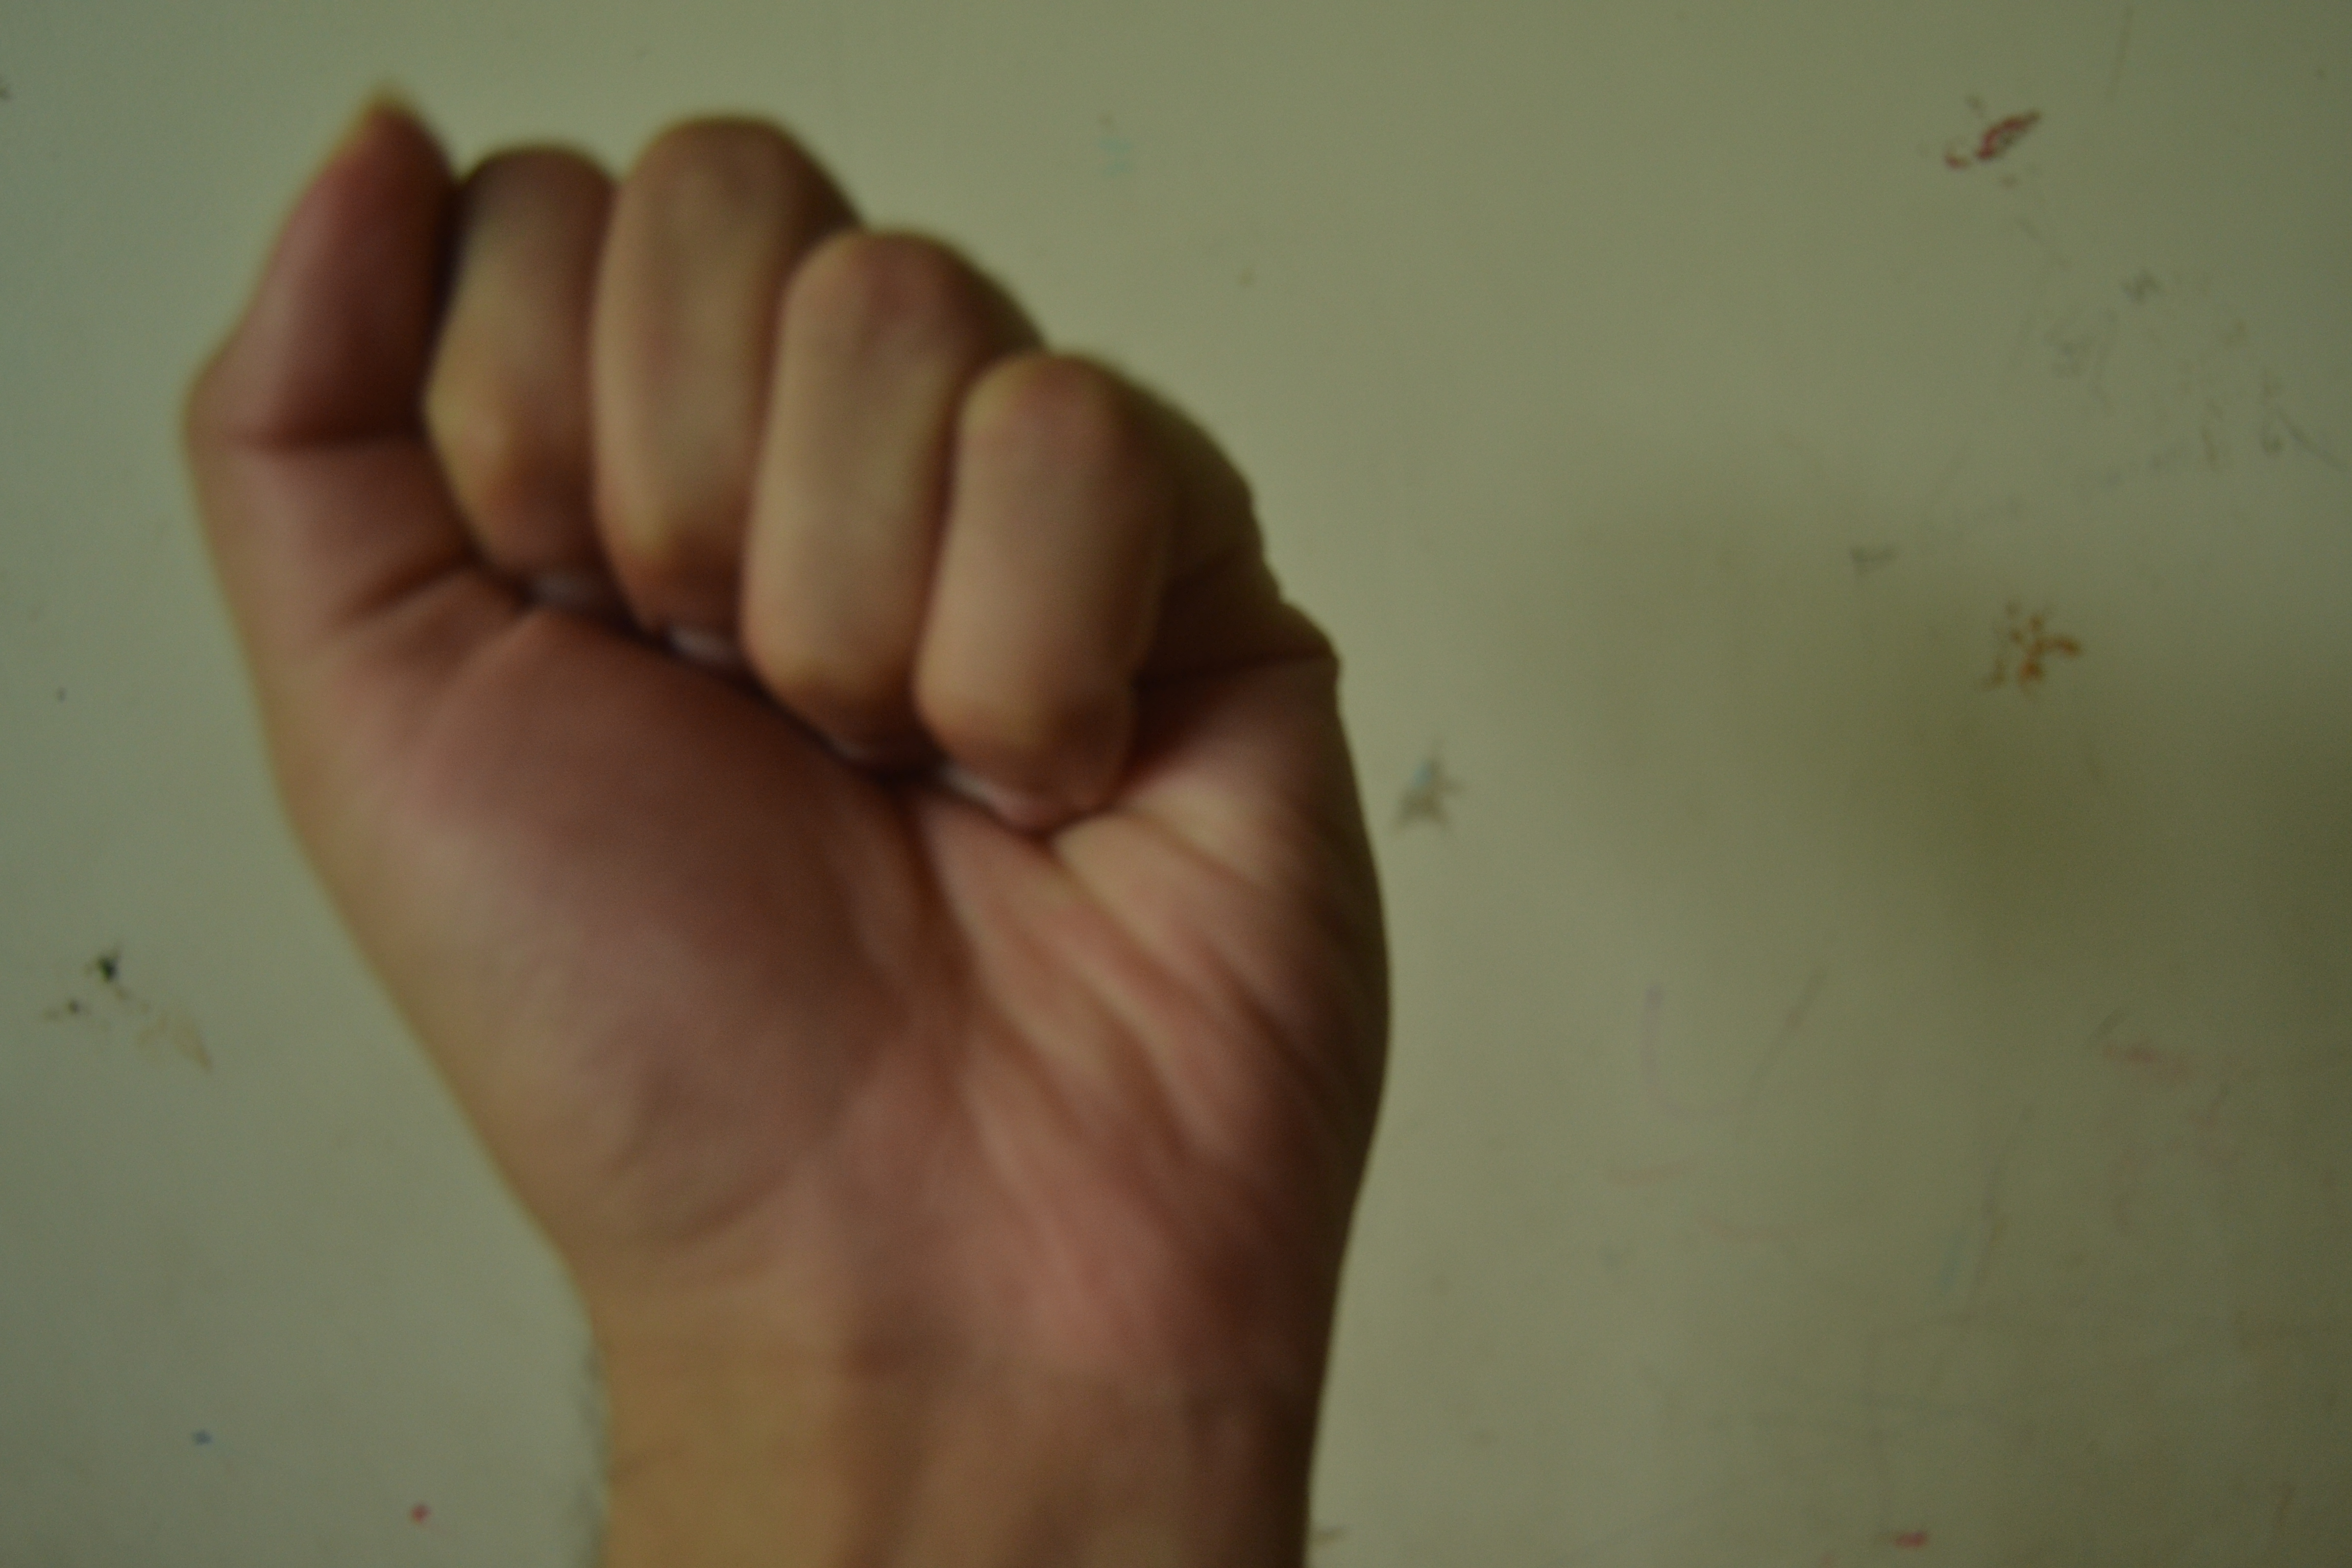click: (147, 84, 1472, 1472)
